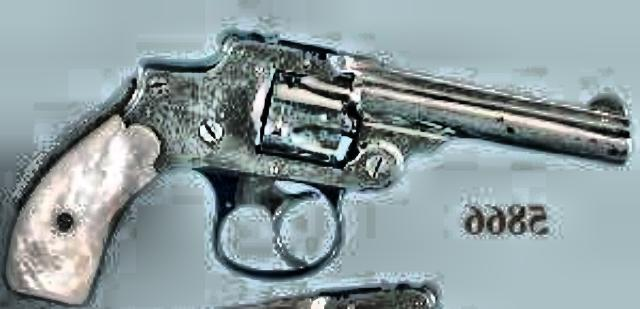pistol: (1, 24, 626, 298)
